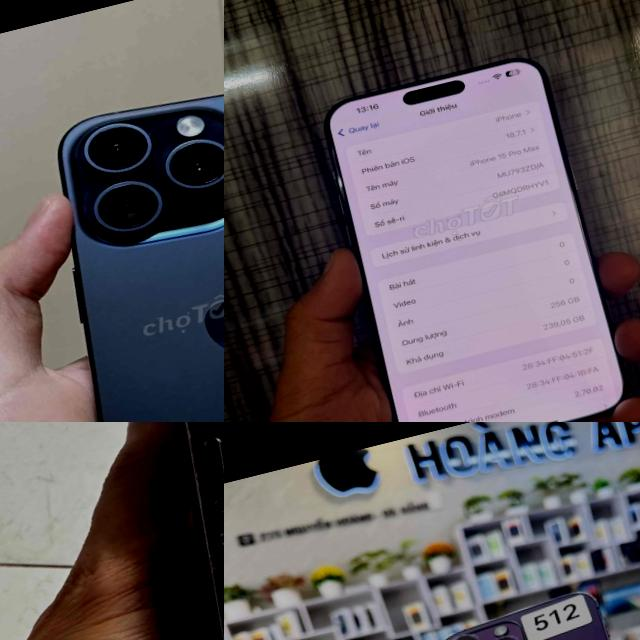gen_14: (126, 422, 224, 640)
gen_15: (283, 22, 640, 422), (0, 28, 224, 422)
scratch: (166, 422, 224, 560)
